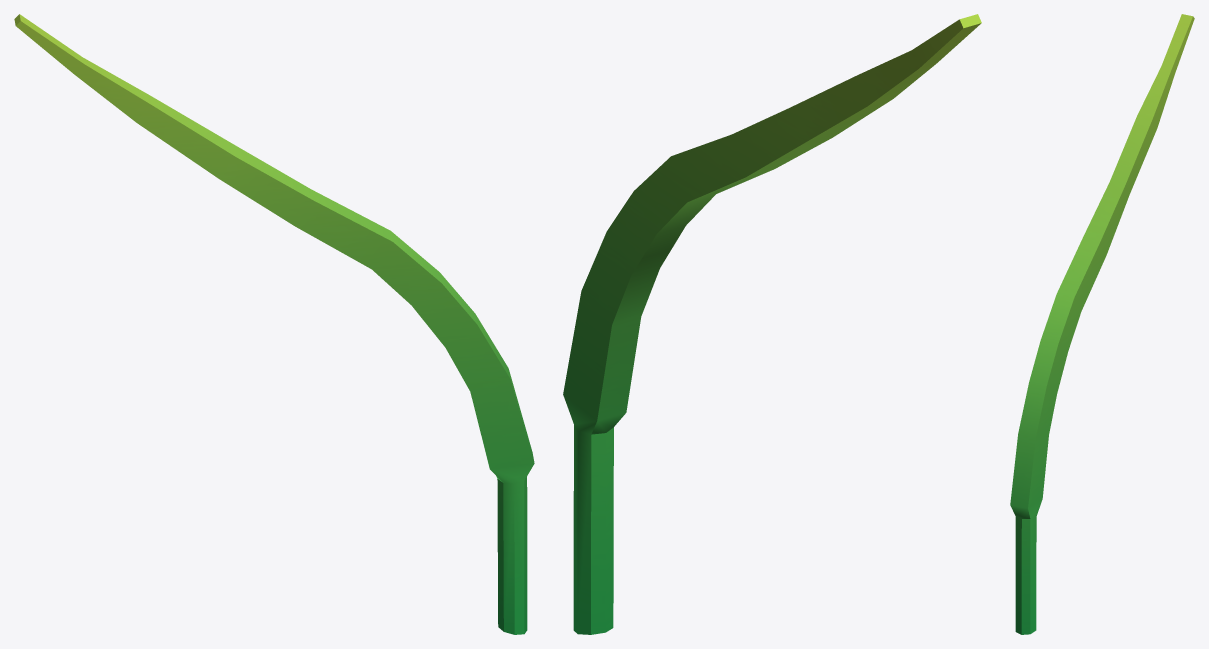
The model's file is SM_Grass_01.fbx.
3 renders of one model, left to right at view 1: azimuth 30°, elevation 25°; view 2: azimuth 150°, elevation 25°; view 3: azimuth 270°, elevation 25°, orthographic. The views are drawn at different scales.
Parts seen in each view (by area): view 1: SM_Grass_01; view 2: SM_Grass_01; view 3: SM_Grass_01.
Boxes of the visible parts, x1,y1,x2,y2 form: SM_Grass_01: (14, 14, 534, 634); SM_Grass_01: (563, 14, 981, 634); SM_Grass_01: (1010, 14, 1194, 634).
Size of the model in its own units: 248 by 360 by 127.
1 material, 1 textured.
